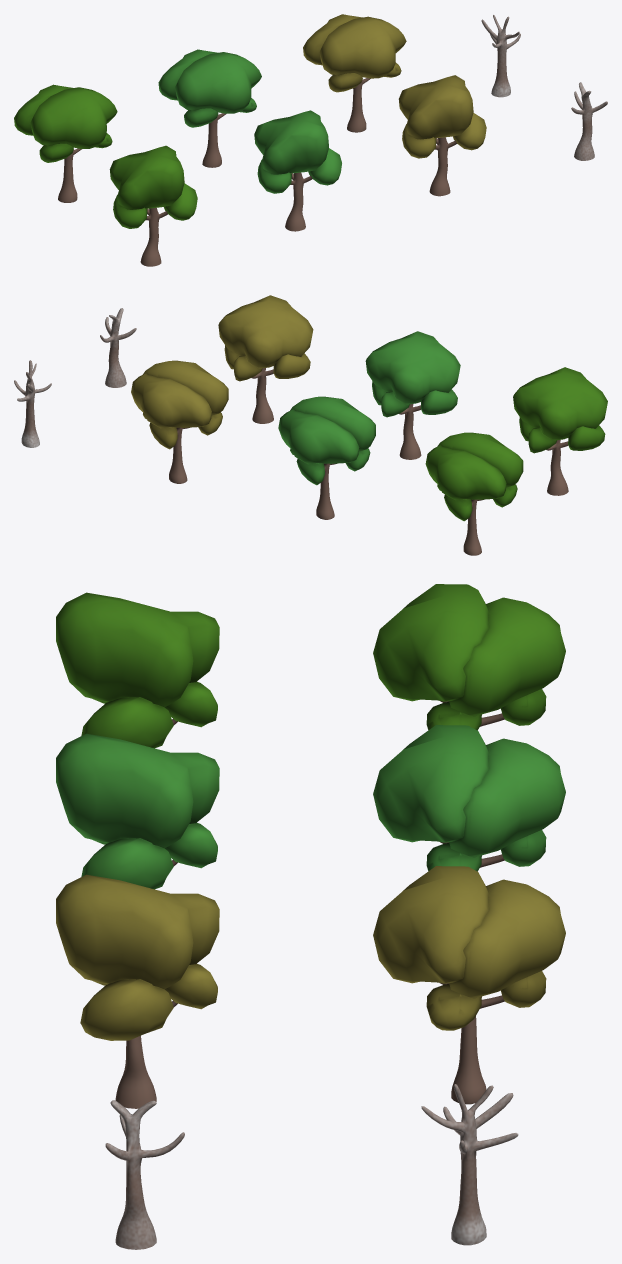
File: seasonal-trees.glb
3 views of the same model, one above another, from view 1: azimuth 30°, elevation 25°; view 2: azimuth 150°, elevation 25°; view 3: azimuth 270°, elevation 25° (orthographic). The views are drawn at different scales.
Parts seen in each view (by area): view 1: Summer_Tree1, Autumn_Tree1, Spring_Tree1, Autumn_Tree2, Summer_Tree2, Spring_Tree2, Winter_Tree1, Winter_Tree2; view 2: Summer_Tree2, Autumn_Tree2, Spring_Tree2, Spring_Tree1, Autumn_Tree1, Summer_Tree1, Winter_Tree2, Winter_Tree1; view 3: Autumn_Tree1, Autumn_Tree2, Spring_Tree1, Summer_Tree1, Spring_Tree2, Summer_Tree2, Winter_Tree1, Winter_Tree2.
Part boxes in pixels (x1,y1,x2,y2): Summer_Tree1: [158, 49, 261, 167]; Autumn_Tree1: [303, 14, 406, 132]; Spring_Tree1: [14, 84, 117, 202]; Autumn_Tree2: [398, 75, 486, 196]; Summer_Tree2: [254, 110, 341, 231]; Spring_Tree2: [109, 145, 197, 266]; Winter_Tree1: [481, 15, 520, 97]; Winter_Tree2: [571, 82, 607, 160]; Summer_Tree2: [365, 331, 460, 459]; Autumn_Tree2: [218, 295, 313, 423]; Spring_Tree2: [513, 367, 607, 495]; Spring_Tree1: [425, 432, 523, 555]; Autumn_Tree1: [131, 360, 228, 483]; Summer_Tree1: [278, 396, 375, 519]; Winter_Tree2: [100, 308, 136, 387]; Winter_Tree1: [14, 360, 51, 447]; Autumn_Tree1: [373, 866, 565, 1104]; Autumn_Tree2: [56, 874, 219, 1108]; Spring_Tree1: [373, 584, 565, 730]; Summer_Tree1: [373, 725, 565, 871]; Spring_Tree2: [56, 592, 219, 748]; Summer_Tree2: [56, 733, 219, 889]; Winter_Tree1: [421, 1084, 518, 1245]; Winter_Tree2: [105, 1100, 184, 1249].
Size of the model in its own units: 3.41 by 0.7337 by 1.53.
Materials: 8 (8 with a texture image).
